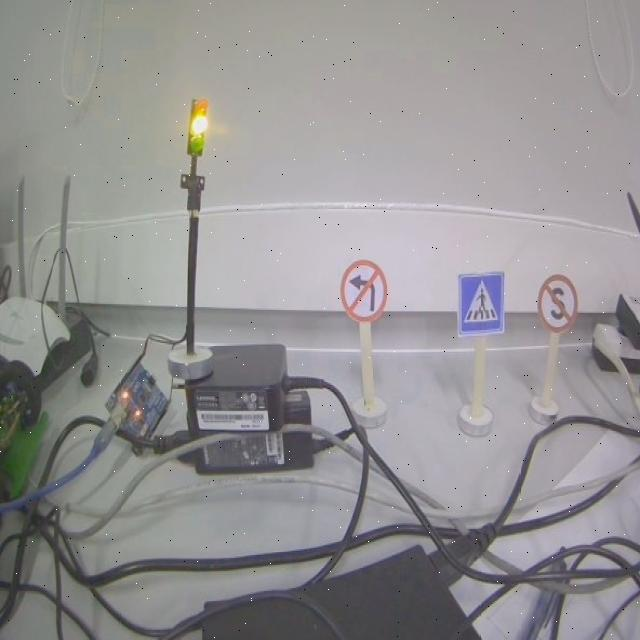Dilarang Belok Kiri: (339, 259, 387, 323)
Lampu Kuning: (187, 97, 208, 157)
Rambu Berhenti: (538, 274, 578, 331)
Rambu Penyebrangan: (457, 271, 506, 336)
